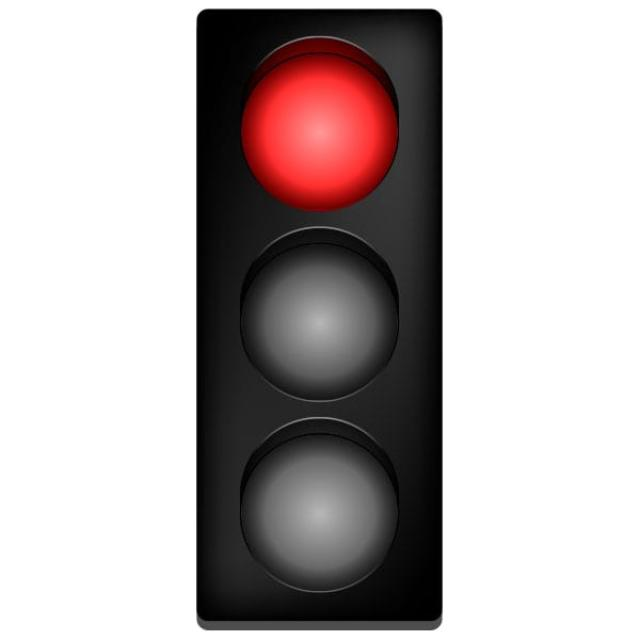red: (235, 35, 414, 235)
